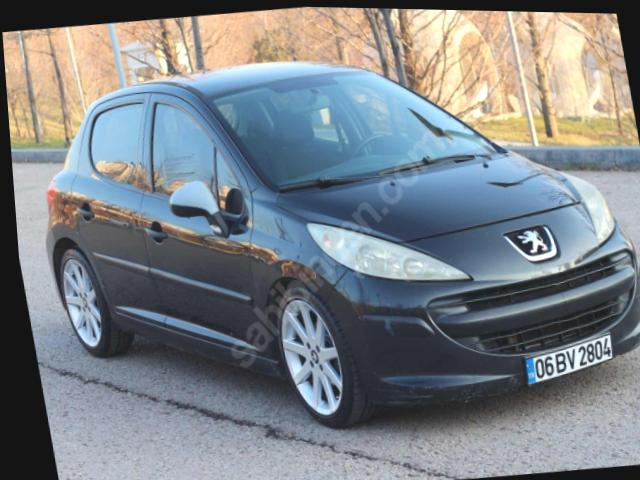plaka: (526, 335, 613, 384)
